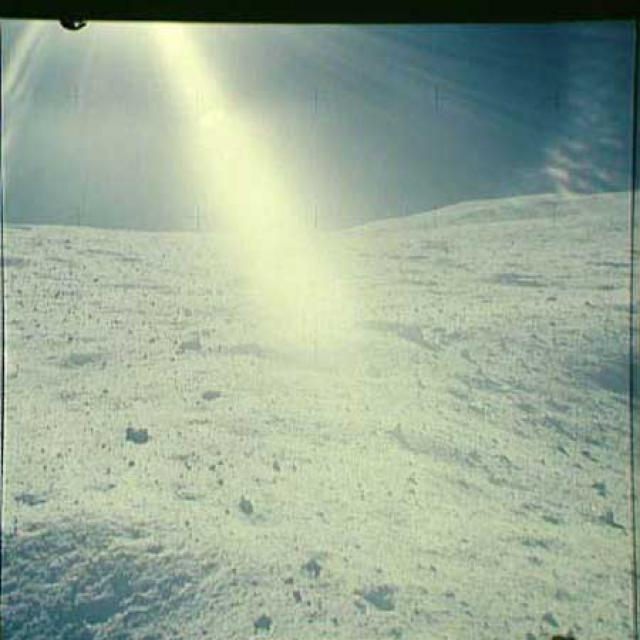crater: (221, 323, 412, 398), (539, 325, 640, 419), (36, 336, 139, 376)
rock: (100, 408, 170, 454), (349, 574, 407, 614), (237, 485, 261, 516)
